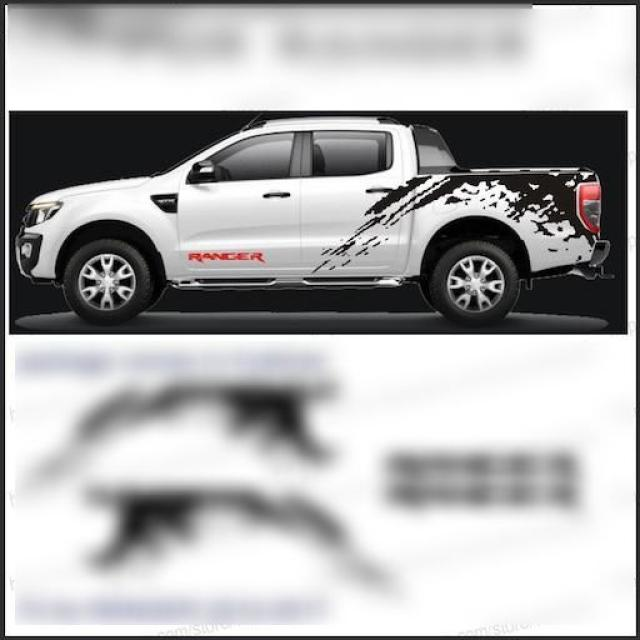back_left_door: (299, 126, 403, 271)
back_left_light: (577, 181, 602, 235)
front_left_door: (177, 127, 303, 269)
front_left_light: (26, 202, 63, 228)
left_mirror: (190, 160, 215, 182)
trunk: (405, 171, 602, 276)
wheel: (63, 239, 520, 327)
